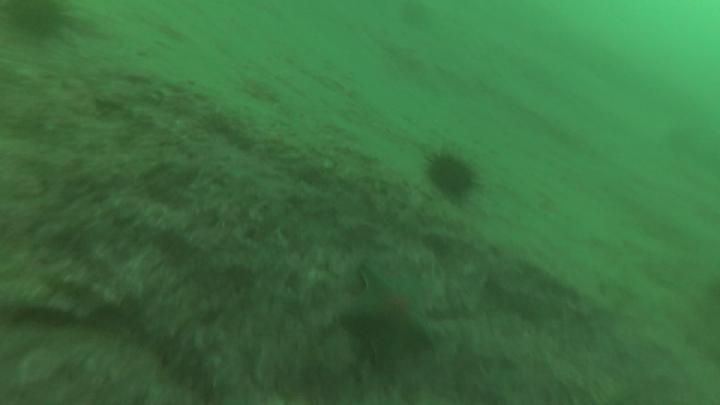echinus: (430, 155, 476, 196)
starfish: (338, 268, 438, 361)
